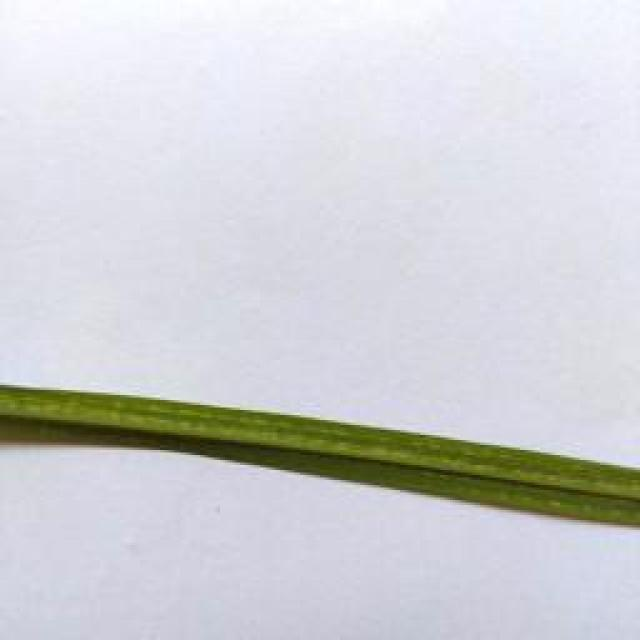Healthy-Plant: (0, 377, 640, 528)
